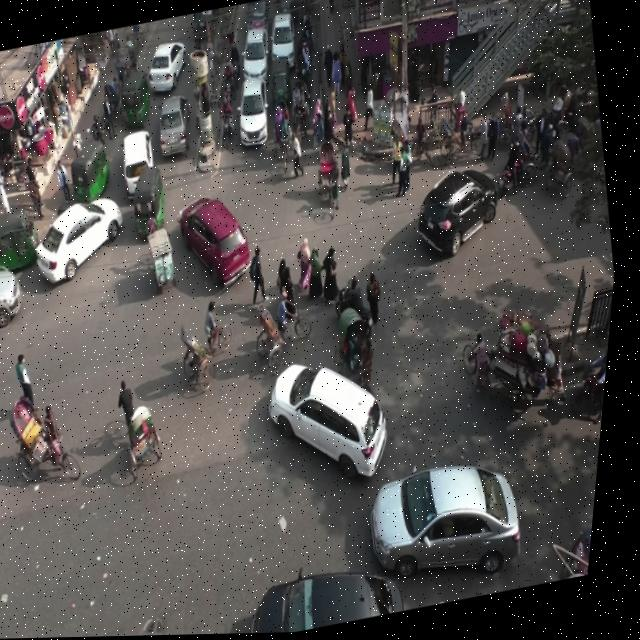cng: (51, 133, 125, 216), (0, 196, 56, 287), (125, 157, 180, 245), (115, 61, 166, 133)
rikshaw: (152, 271, 262, 407), (7, 373, 102, 510), (243, 261, 341, 374), (333, 293, 406, 413), (105, 364, 179, 482), (540, 120, 598, 209), (379, 110, 445, 184), (310, 125, 361, 216), (496, 85, 553, 154), (432, 108, 492, 172), (262, 91, 306, 176), (510, 116, 561, 177), (287, 74, 324, 151), (99, 68, 133, 127)
